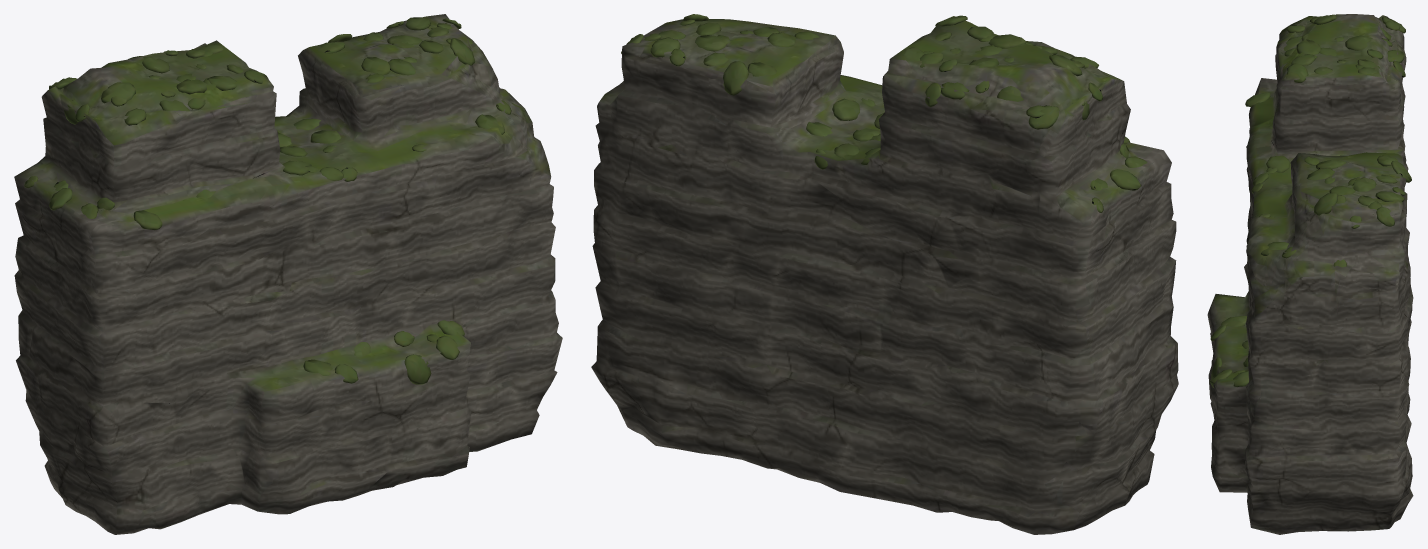
File: cliff_a.glb
3 renders of one model, left to right at view 1: azimuth 30°, elevation 25°; view 2: azimuth 150°, elevation 25°; view 3: azimuth 270°, elevation 25°, orthographic. The views are drawn at different scales.
Visible parts, largest first — view 1: cliff_a; view 2: cliff_a; view 3: cliff_a.
Part boxes in pixels (left/top/right/bottom): cliff_a: left=14, top=14, right=562, bottom=534; cliff_a: left=591, top=14, right=1178, bottom=534; cliff_a: left=1207, top=14, right=1413, bottom=534.
Bounding box in the file's own units: 10.33 × 8.75 × 4.47.
Materials: 1 (1 with a texture image).
